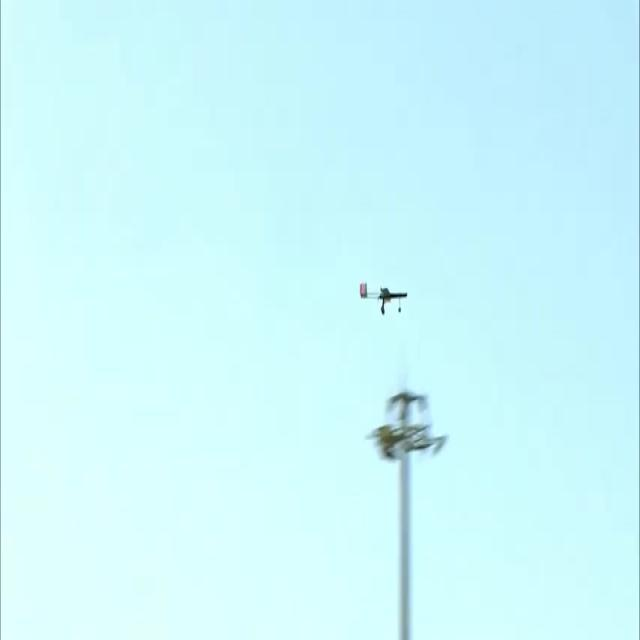iha: (359, 281, 408, 317)
